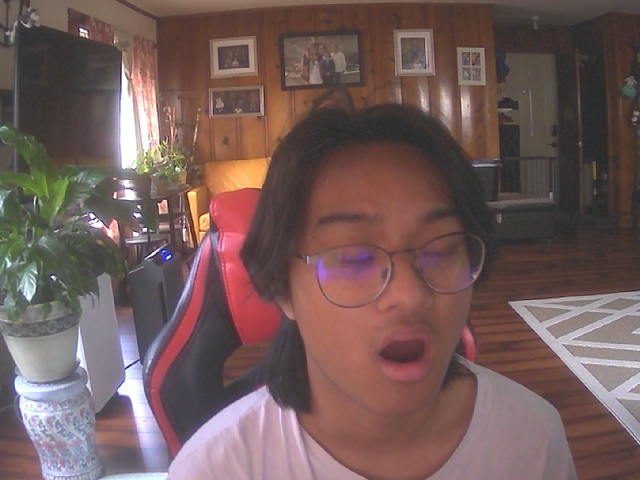fear: (267, 120, 487, 420)
